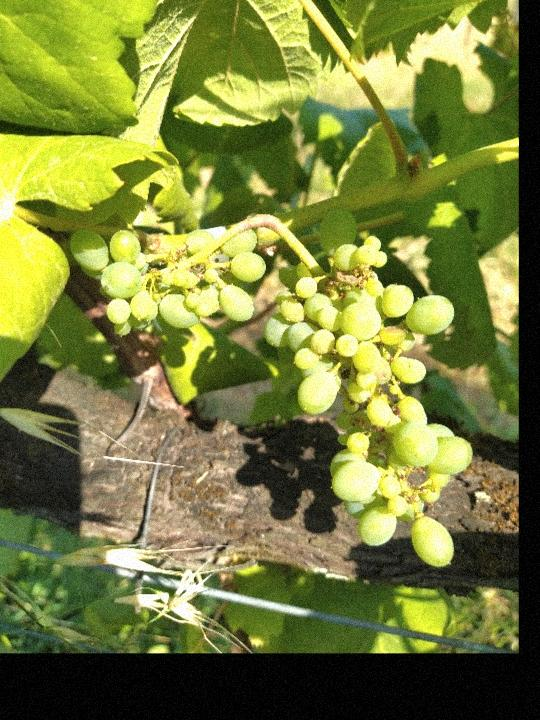grape: (65, 204, 484, 571)
